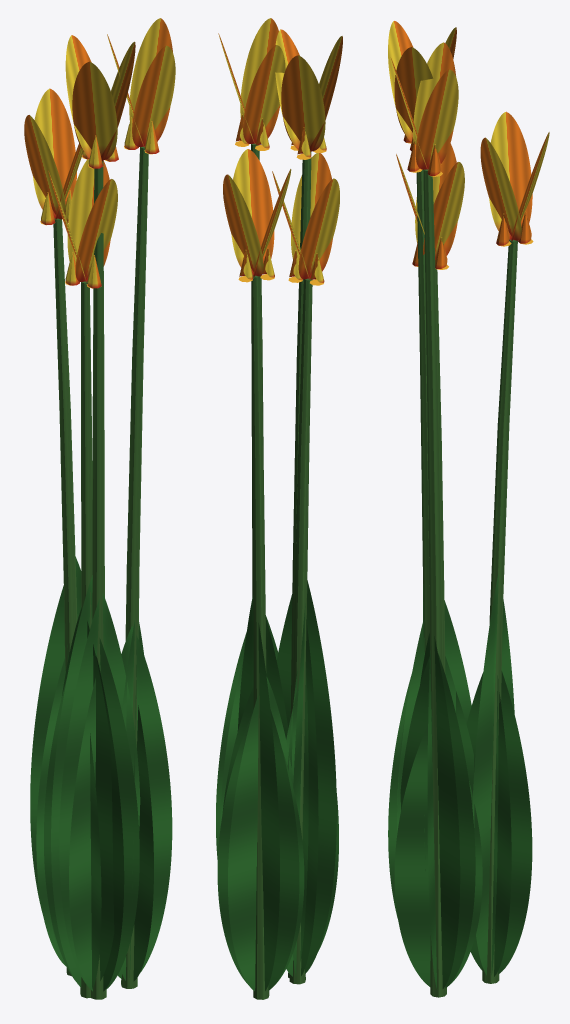
The model's file is heliconia_bloom_v02.fbx.
The picture shows the model from 3 angles, left to right: view 1: azimuth 30°, elevation 25°; view 2: azimuth 150°, elevation 25°; view 3: azimuth 270°, elevation 25°; orthographic projection. The views are drawn at different scales.
Parts seen in each view (by area): view 1: heliconia_bloom_v02; view 2: heliconia_bloom_v02; view 3: heliconia_bloom_v02.
Part boxes in pixels (<box>): heliconia_bloom_v02: <box>24,18,175,999</box>; heliconia_bloom_v02: <box>216,18,342,999</box>; heliconia_bloom_v02: <box>388,21,549,997</box>.
Bounding box in the file's own units: 23.23 × 27.44 × 161.
Materials: 3 (3 with a texture image).
